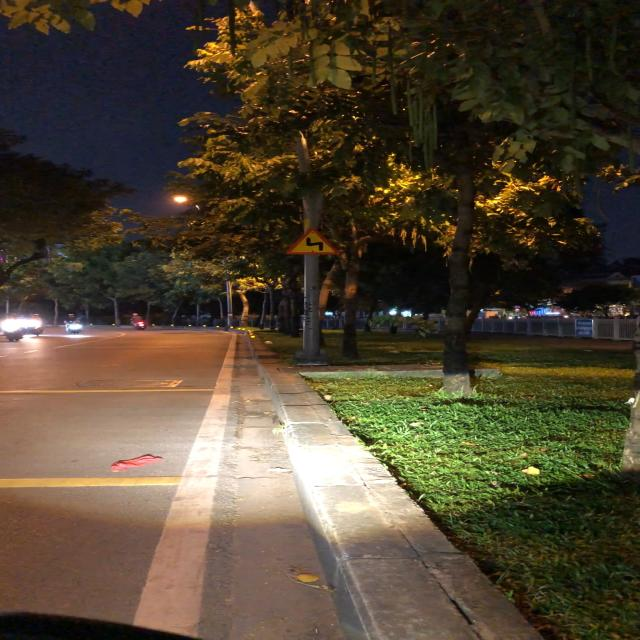Bien bao nhieu cho ngoat nguy hiem lien tiep: (280, 226, 342, 256)
